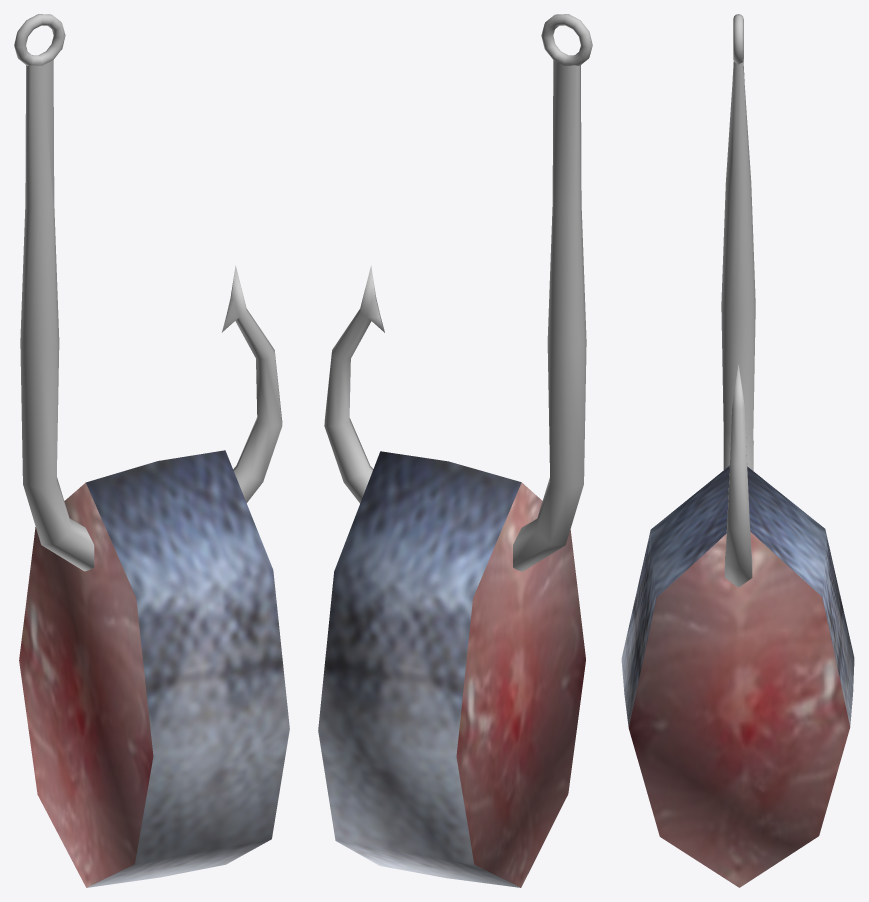
The model's file is Bait_Barracuda.fbx.
The picture shows the model from 3 angles, left to right: view 1: azimuth 30°, elevation 25°; view 2: azimuth 150°, elevation 25°; view 3: azimuth 270°, elevation 25°; orthographic projection. The views are drawn at different scales.
Parts seen in each view (by area): view 1: Bait_Barracuda; view 2: Bait_Barracuda; view 3: Bait_Barracuda.
Boxes of the visible parts, <box> form: Bait_Barracuda: <box>14,14,289,887</box>; Bait_Barracuda: <box>318,14,592,887</box>; Bait_Barracuda: <box>621,14,854,887</box>.
Size of the model in its own units: 0.2116 by 0.6778 by 0.1809.
